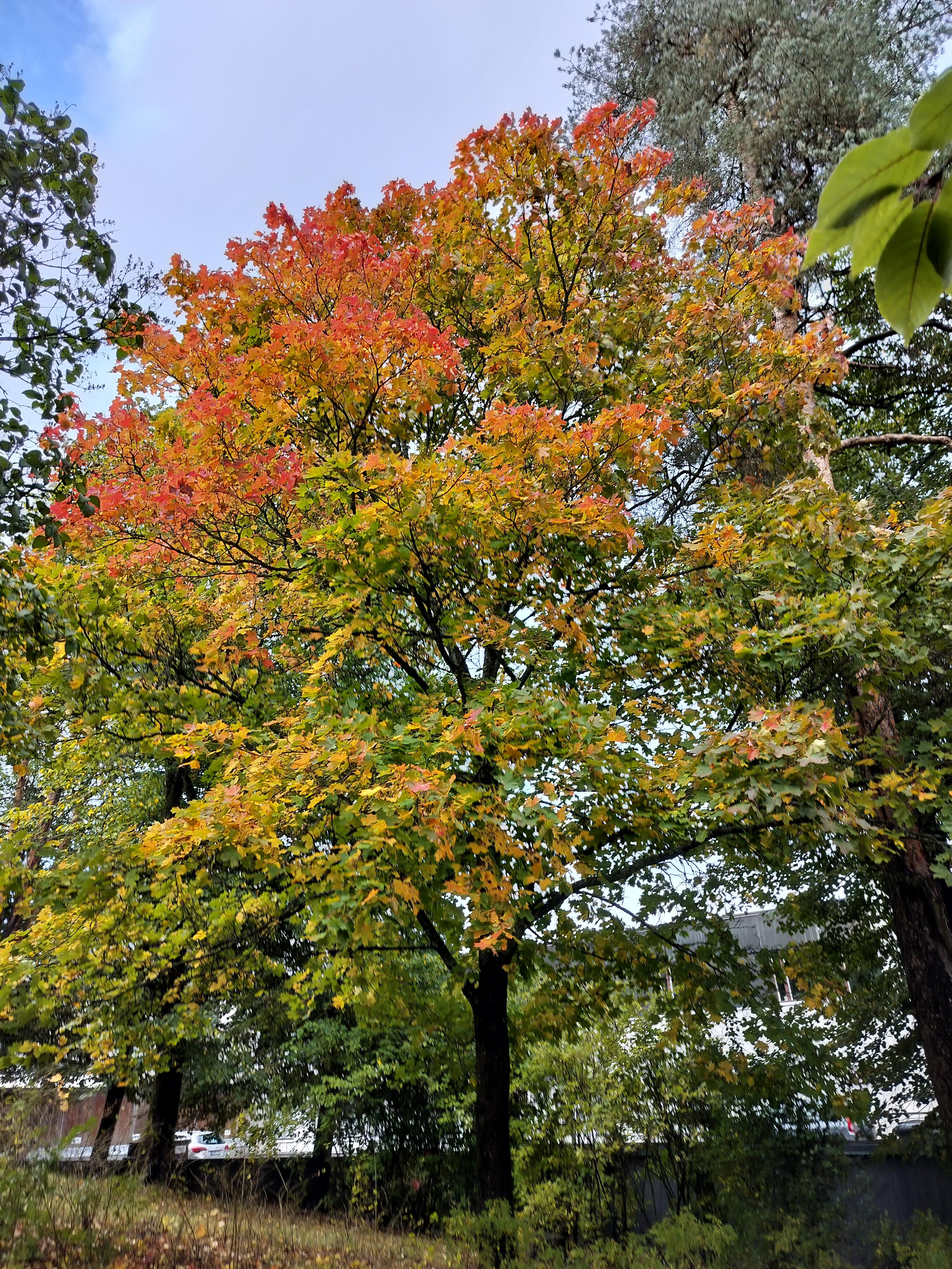Maple: (103, 121, 795, 1266)
